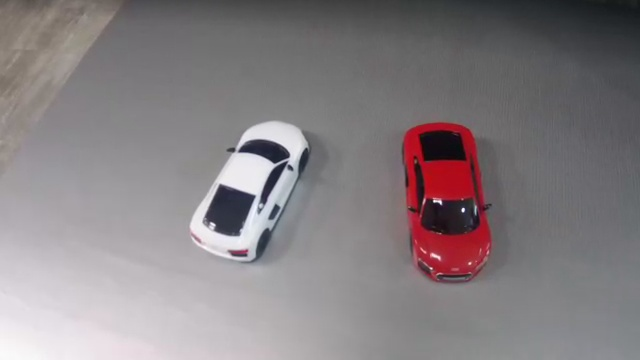car: (188, 120, 312, 263), (403, 121, 494, 282)
